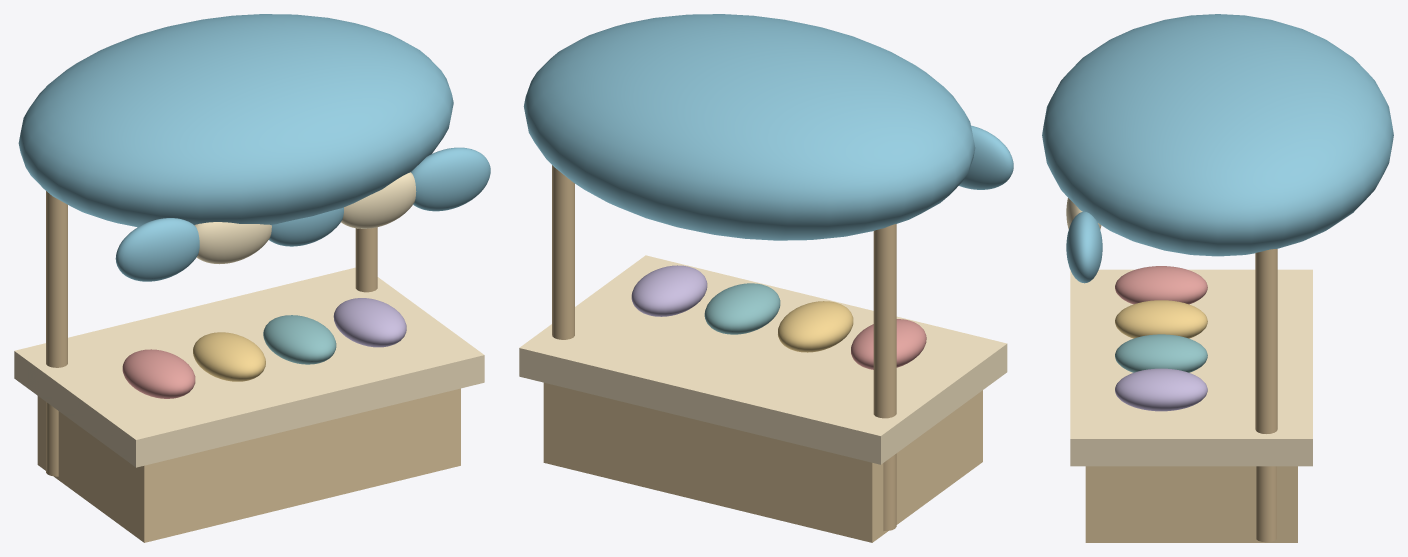
File: fair-echo-pond.glb
3 renders of one model, left to right at view 1: azimuth 30°, elevation 25°; view 2: azimuth 150°, elevation 25°; view 3: azimuth 270°, elevation 25°, orthographic. The views are drawn at different scales.
Parts seen in each view (by area): view 1: fair-echo-pond; view 2: fair-echo-pond; view 3: fair-echo-pond.
Boxes of the visible parts, left/top/right/bottom form: fair-echo-pond: left=14, top=14, right=490, bottom=542; fair-echo-pond: left=519, top=14, right=1013, bottom=542; fair-echo-pond: left=1042, top=14, right=1393, bottom=542.
Bounding box in the file's own units: 2.26 × 2.21 × 1.74.
